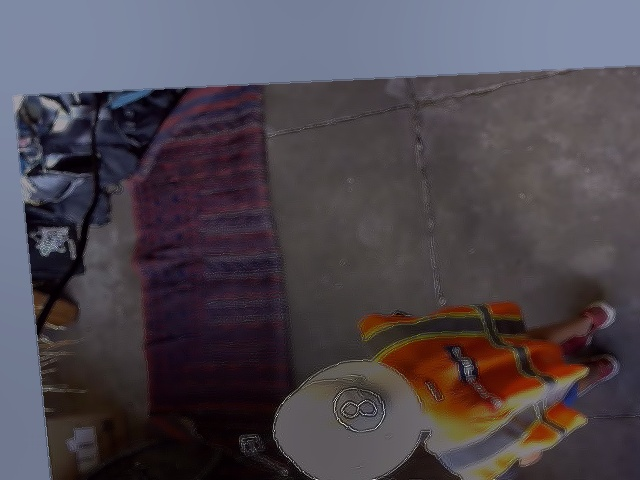eight: (327, 386, 389, 433)
